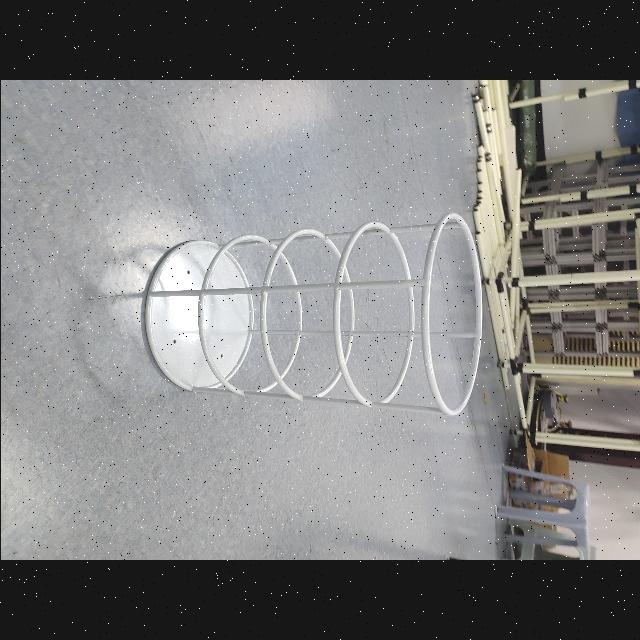S: (142, 210, 486, 420)
